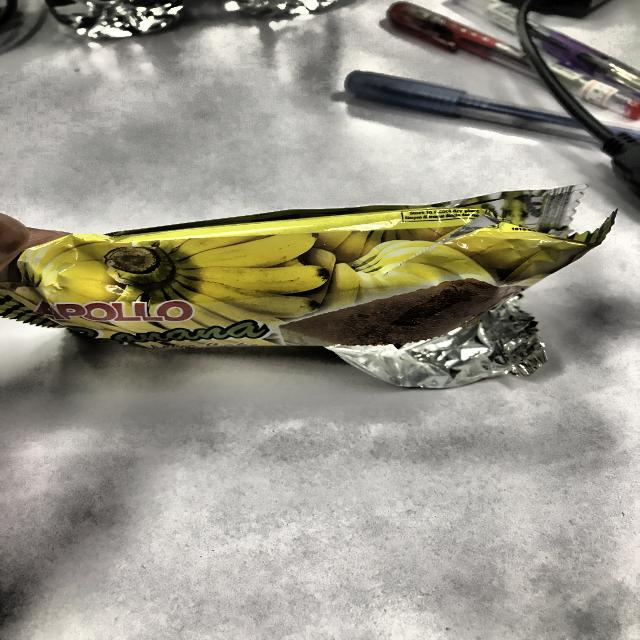Plastic: (24, 206, 585, 372)
